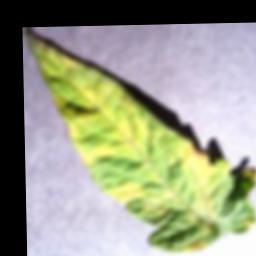Leaf_Mold: (27, 24, 232, 241), (181, 237, 208, 252), (239, 167, 256, 184), (241, 215, 256, 228)
